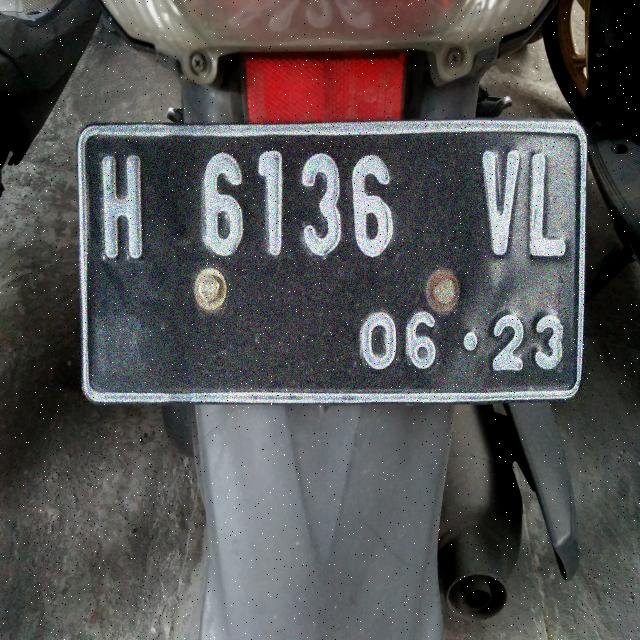plate: (79, 121, 585, 402)
